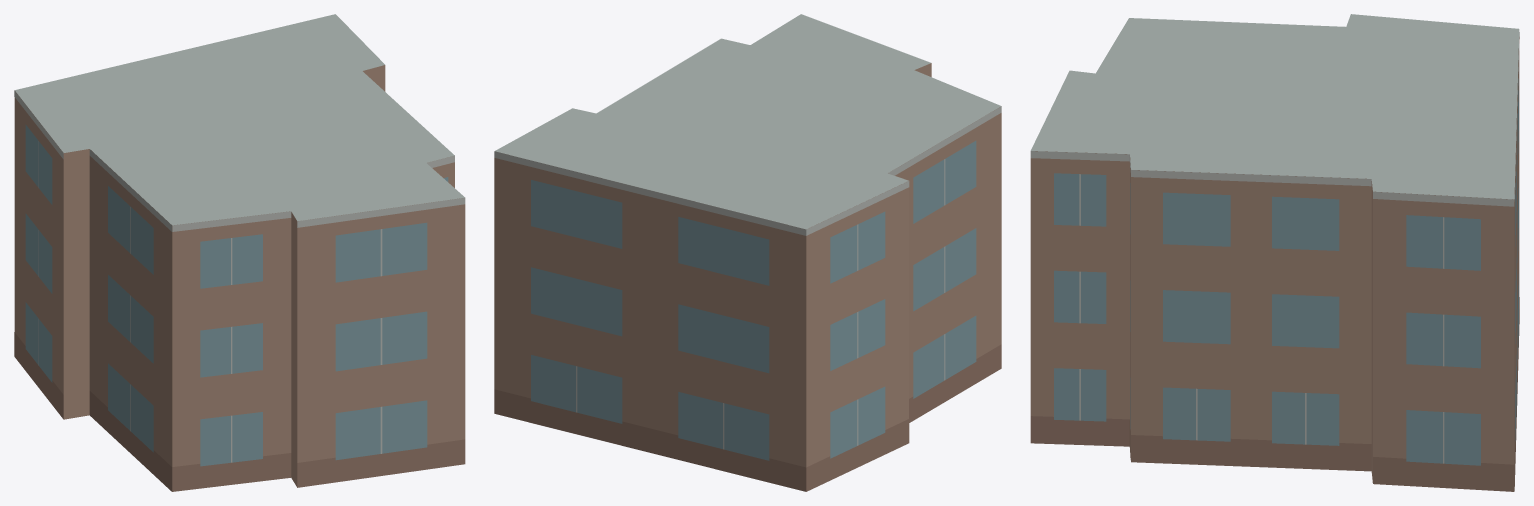
The model's file is survey-upis-32636887.glb.
3 renders of one model, left to right at view 1: azimuth 30°, elevation 25°; view 2: azimuth 150°, elevation 25°; view 3: azimuth 270°, elevation 25°, orthographic. The views are drawn at different scales.
Parts seen in each view (by area): view 1: survey-upis-32636887.tmp; view 2: survey-upis-32636887.tmp; view 3: survey-upis-32636887.tmp.
Boxes of the visible parts, x1,y1,x2,y2 form: survey-upis-32636887.tmp: [14, 14, 465, 491]; survey-upis-32636887.tmp: [494, 14, 1001, 491]; survey-upis-32636887.tmp: [1030, 14, 1519, 491].
Size of the model in its own units: 13.34 by 9.8 by 14.86.
